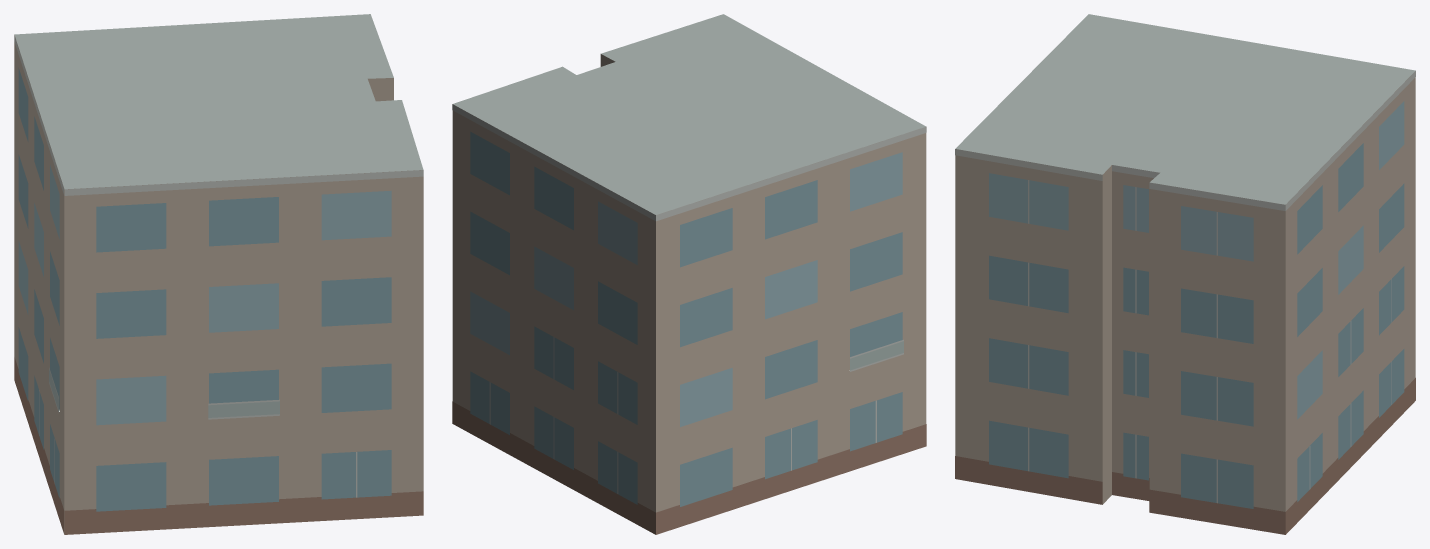
The model's file is survey-upis-32900555.glb.
3 views of the same model, side by side, from view 1: azimuth 30°, elevation 25°; view 2: azimuth 150°, elevation 25°; view 3: azimuth 270°, elevation 25° (orthographic). The views are drawn at different scales.
Parts seen in each view (by area): view 1: survey-upis-32900555.tmp; view 2: survey-upis-32900555.tmp; view 3: survey-upis-32900555.tmp.
Part boxes in pixels (bbox=[...]): survey-upis-32900555.tmp: bbox=[14, 14, 423, 534]; survey-upis-32900555.tmp: bbox=[452, 14, 926, 534]; survey-upis-32900555.tmp: bbox=[955, 14, 1415, 534].
Bounding box in the file's own units: 15.63 × 12.6 × 15.94.
